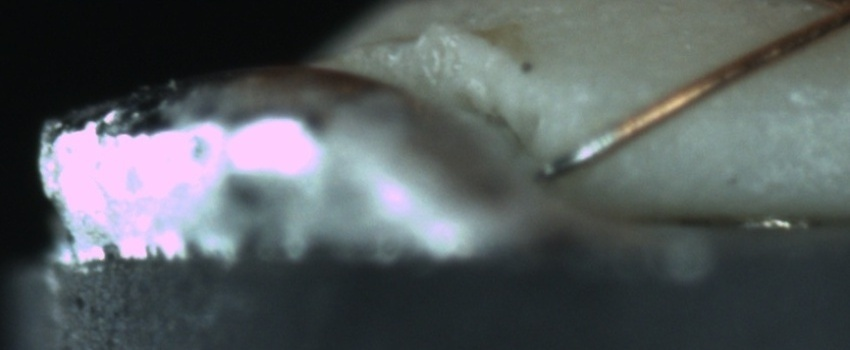DL: (684, 80, 849, 141)
TS: (538, 123, 621, 178)
